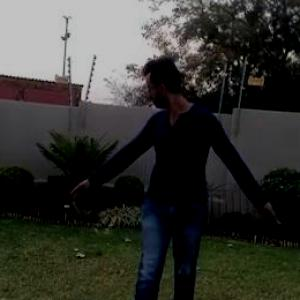land: (54, 52, 299, 299)
